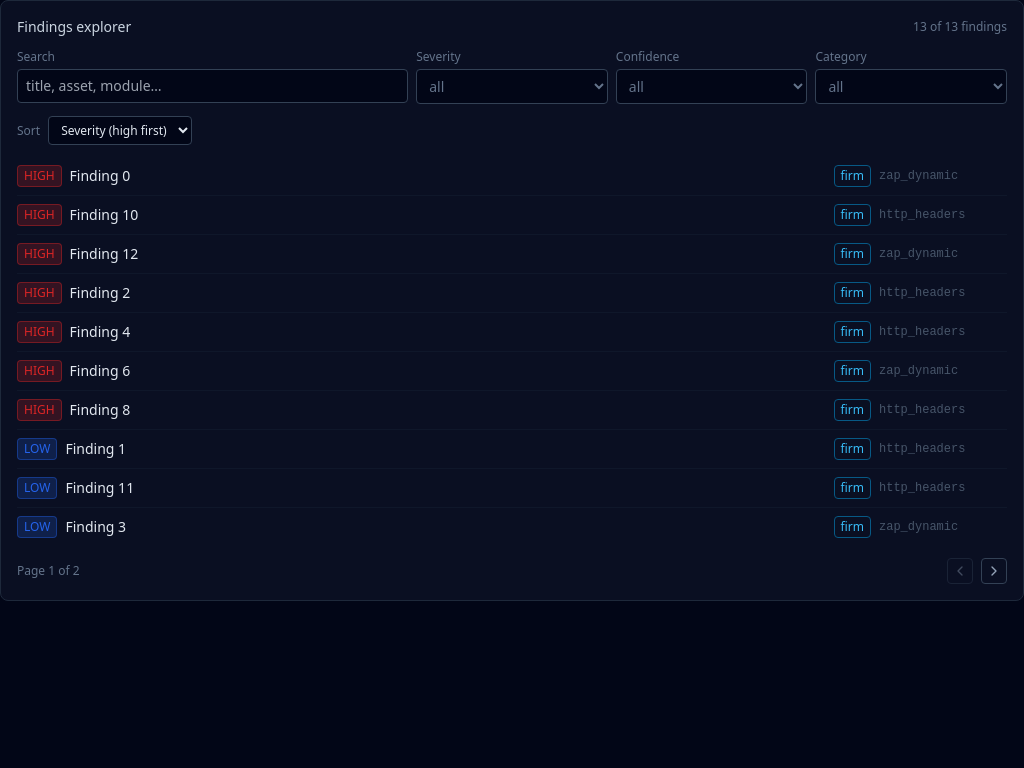
Test: FindingsExplorer › paginates large result sets and allows page movement
The width and height of the screenshot is (1024, 768).
Click the button named "Next page". click: (994, 571)
box: [981,558,1007,584]
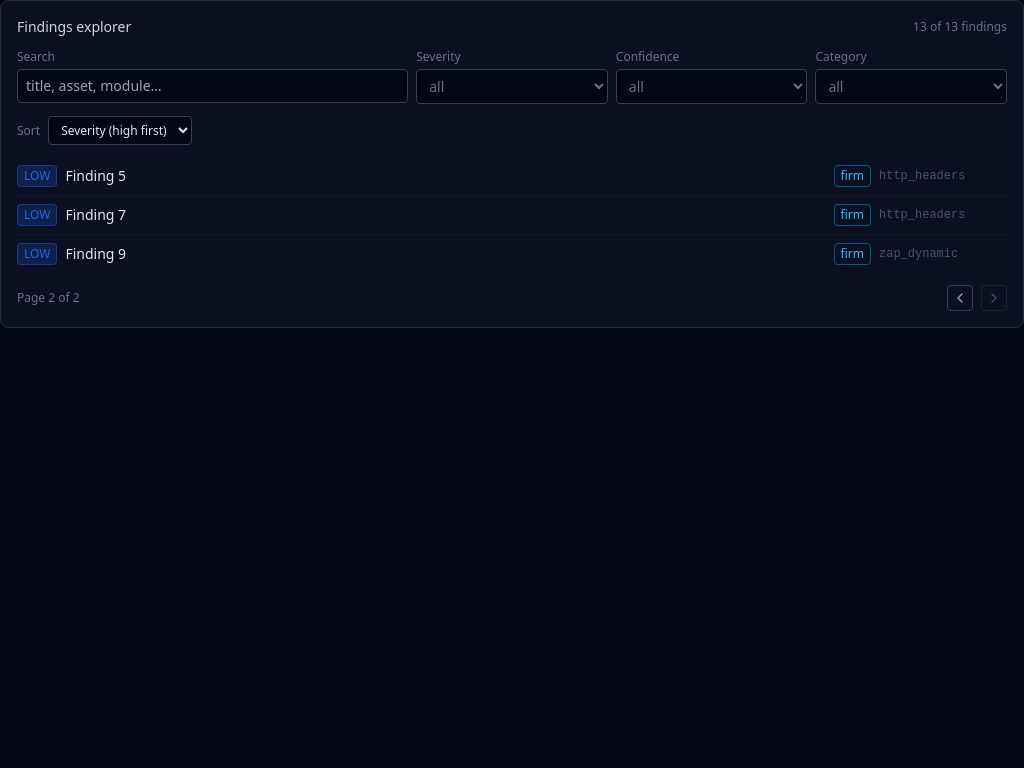
Expected: the text "Page 2 of 2" is shown, [17,290,80,306]
Click the button named "Previous page". click: (960, 298)
box: [947,285,973,311]
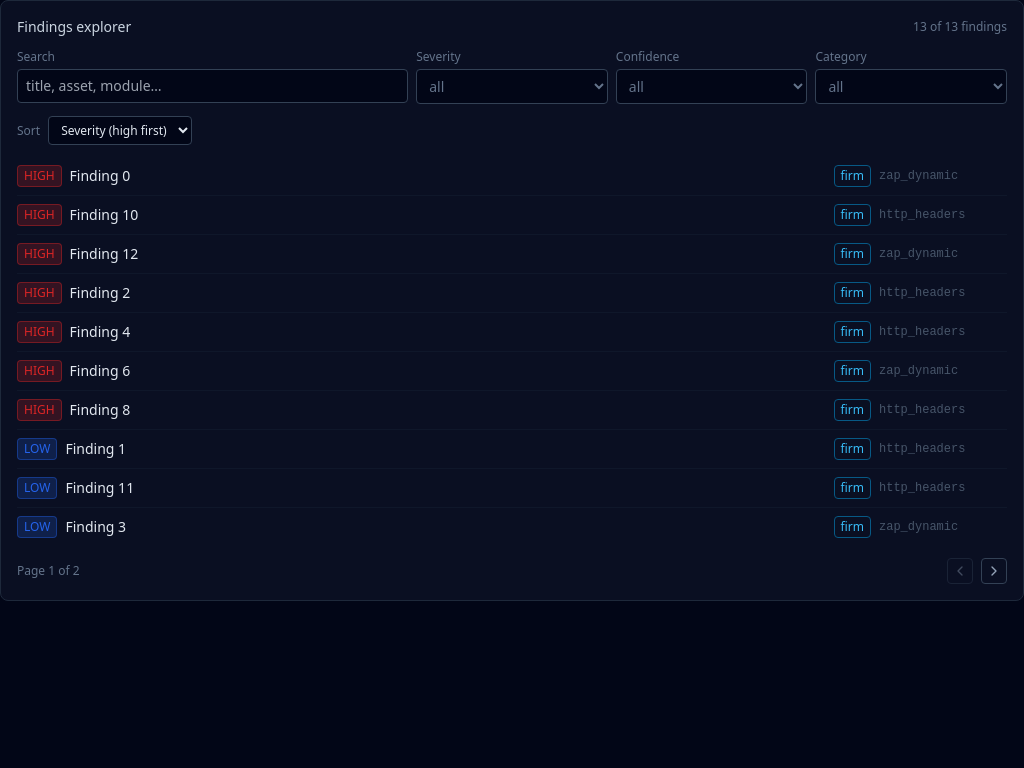
Expected: the text "Page 1 of 2" is shown, [17,563,80,579]
